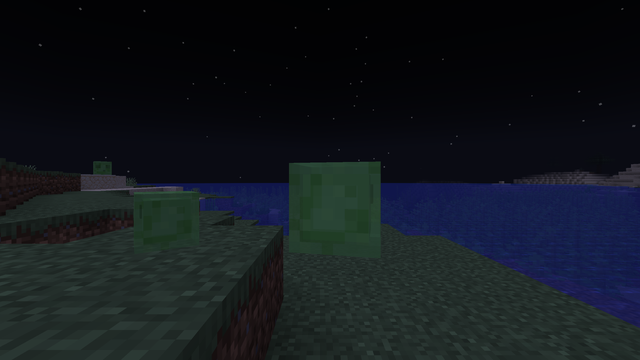slimes: (294, 158, 391, 255), (118, 189, 204, 250), (89, 160, 114, 171)
